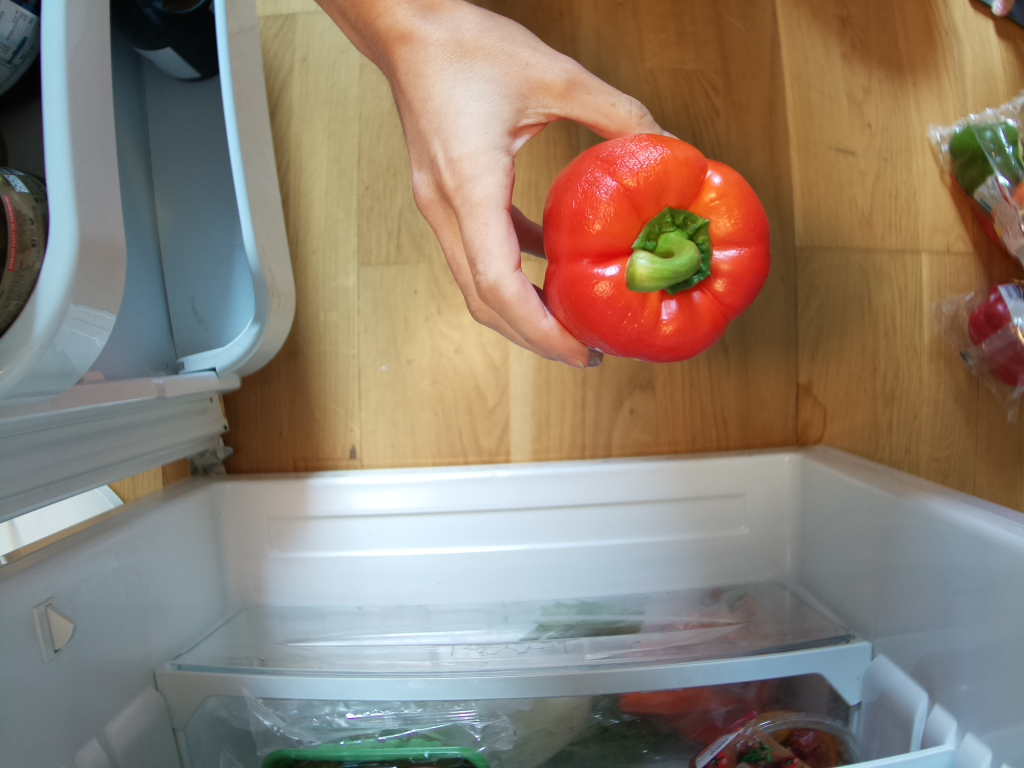pepper-bad: (536, 130, 785, 374)
